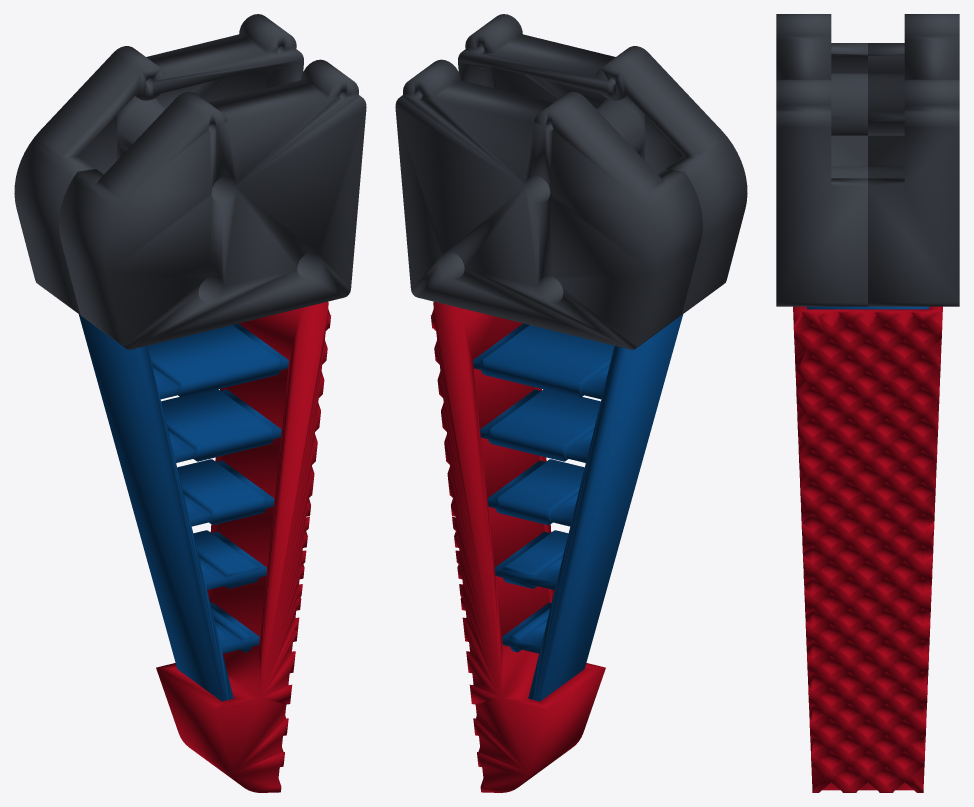
The model's file is soft-gripper.obj.
3 renders of one model, left to right at view 1: azimuth 30°, elevation 25°; view 2: azimuth 150°, elevation 25°; view 3: azimuth 270°, elevation 25°, orthographic. The views are drawn at different scales.
Bounding box in the file's own units: 0.0392 × 0.1017 × 0.023.
